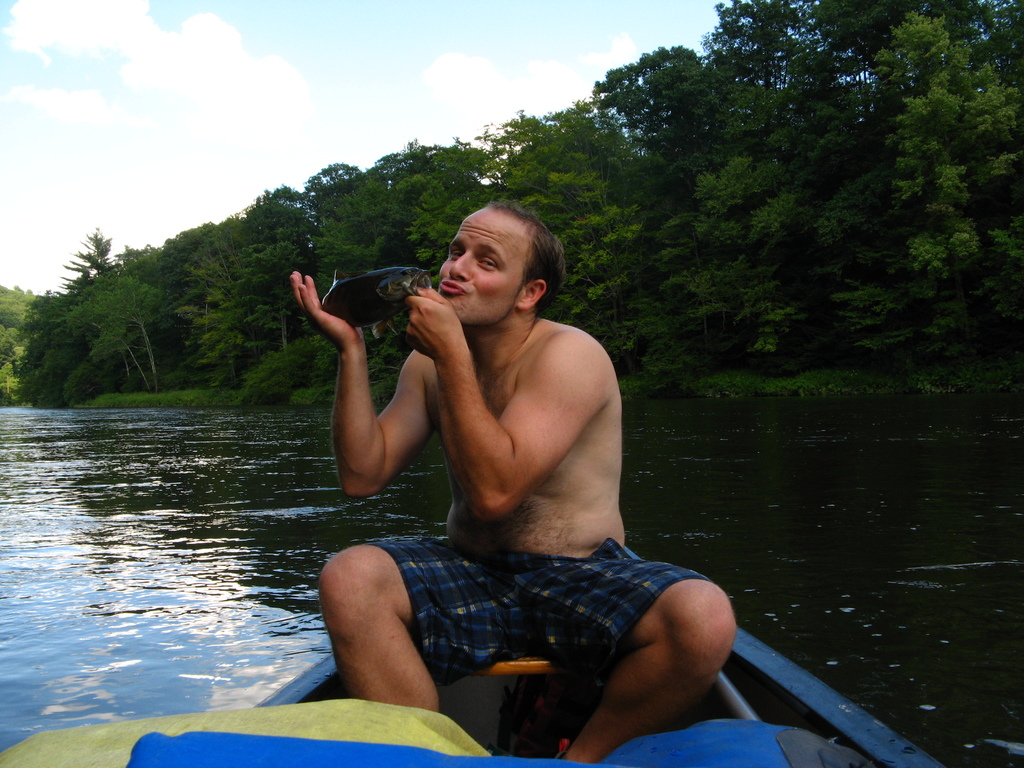Animal: (318, 265, 433, 330)
